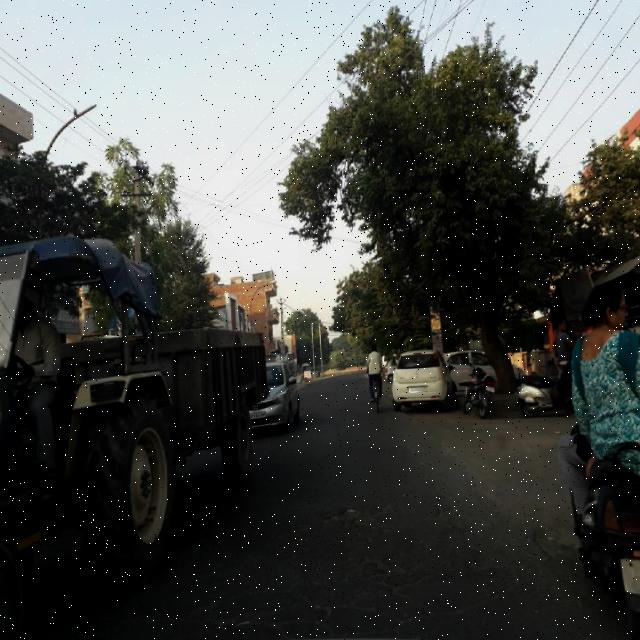D20: (170, 482, 535, 636)
D40: (321, 493, 400, 531), (183, 579, 239, 625)
